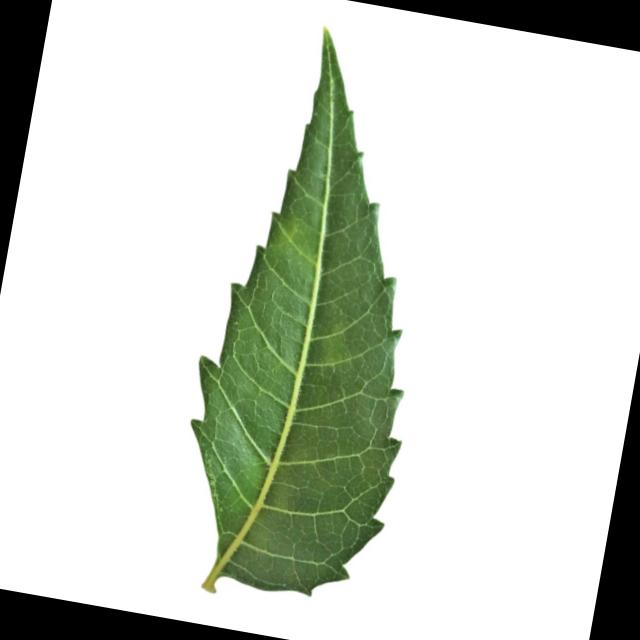Medicinal-Neem: (157, 8, 472, 620)
